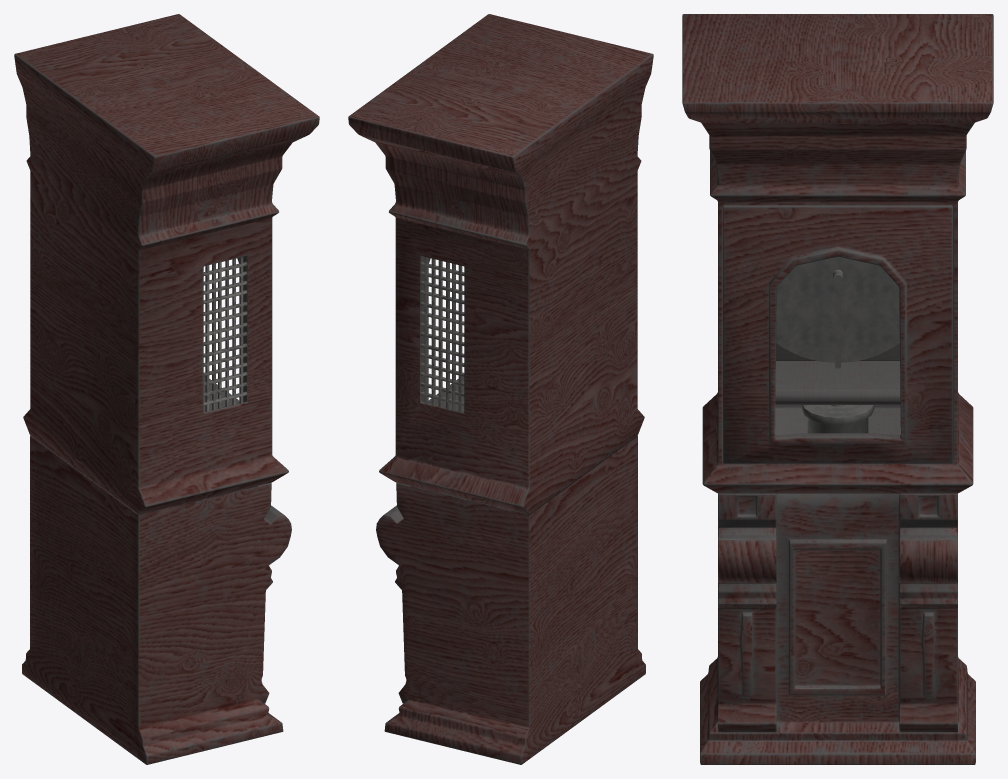
File: simponion.glb
The picture shows the model from 3 angles, left to right: view 1: azimuth 30°, elevation 25°; view 2: azimuth 150°, elevation 25°; view 3: azimuth 270°, elevation 25°; orthographic projection. The views are drawn at different scales.
Parts seen in each view (by area): view 1: simphonion-mesh; view 2: simphonion-mesh; view 3: simphonion-mesh.
Part boxes in pixels (<box>): simphonion-mesh: <box>14,14,319,764</box>; simphonion-mesh: <box>348,14,653,764</box>; simphonion-mesh: <box>682,14,993,764</box>.
Bounding box in the file's own units: 0.2927 × 1.03 × 0.43.
1 material, 1 textured.
